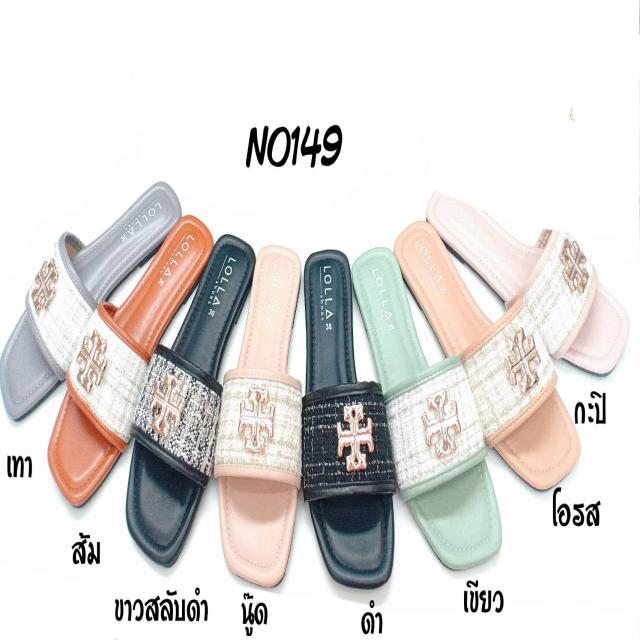black: (123, 232, 254, 558), (308, 253, 389, 581)
green: (357, 248, 501, 572)
grey: (0, 142, 181, 416)
kapi: (432, 180, 625, 382)
nood: (221, 245, 301, 586)
orange: (49, 211, 212, 507)
orot: (395, 222, 575, 496)
